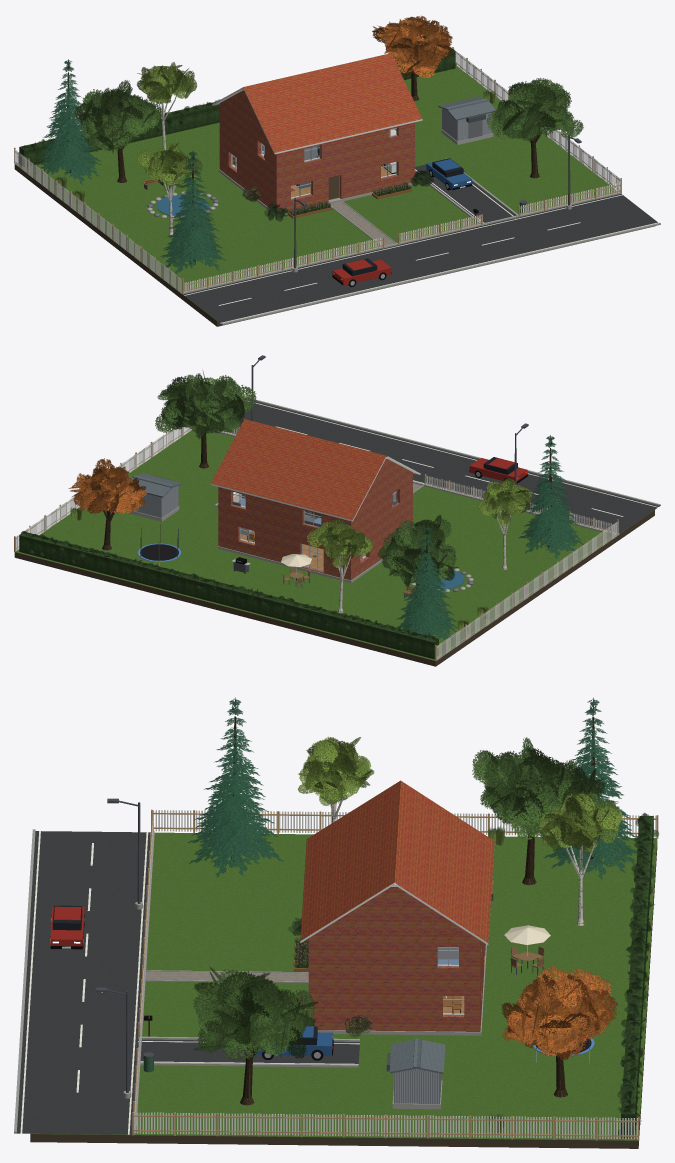
File: structure_studio.glb
3 views of the same model, one above another, from view 1: azimuth 30°, elevation 25°; view 2: azimuth 150°, elevation 25°; view 3: azimuth 270°, elevation 25° (orthographic). The views are drawn at different scales.
Visible parts, largest first — view 1: Site-fin_grass, Road-fin_asphalt, House · Roof-fin_clay_tiles, Deciduous tree-leaf_oak, Fence-fascia, Conifer (fir)-leaf_needle, House · Ground floor-fin_brick_red, House · 1st floor-fin_brick_red, Birch tree-leaf_birch, Autumn maple-leaf_maple, Road-concrete, Fence-wood_light (+17 smaller); view 2: Site-fin_grass, House · Roof-fin_clay_tiles, Road-fin_asphalt, Hedge-fin_hedge_leaf, Deciduous tree-leaf_oak, Conifer (fir)-leaf_needle, Fence-fascia, House · Ground floor-fin_brick_red, House · 1st floor-fin_brick_red, Site-earth, Birch tree-leaf_birch, Autumn maple-leaf_maple (+12 smaller); view 3: Site-fin_grass, Road-fin_asphalt, House · Roof-fin_clay_tiles, Deciduous tree-leaf_oak, Conifer (fir)-leaf_needle, Fence-fascia, House · 1st floor-fin_brick_red, House · Ground floor-fin_brick_red, Autumn maple-leaf_maple, Birch tree-leaf_birch, Site-earth, Hedge-fin_hedge_leaf (+15 smaller).
Boxes of the visible parts, x1=… form: Site-fin_grass: x1=15, y1=65, x2=615, y2=319; Road-fin_asphalt: x1=183, y1=164, x2=657, y2=323; House · Roof-fin_clay_tiles: x1=242, y1=53, x2=422, y2=152; Deciduous tree-leaf_oak: x1=74, y1=78, x2=583, y2=152; Fence-fascia: x1=14, y1=48, x2=620, y2=293; Conifer (fir)-leaf_needle: x1=36, y1=59, x2=226, y2=273; House · Ground floor-fin_brick_red: x1=219, y1=136, x2=414, y2=211; House · 1st floor-fin_brick_red: x1=219, y1=103, x2=414, y2=179; Birch tree-leaf_birch: x1=136, y1=62, x2=202, y2=189; Autumn maple-leaf_maple: x1=372, y1=15, x2=452, y2=78; Road-concrete: x1=183, y1=158, x2=660, y2=325; Fence-wood_light: x1=14, y1=47, x2=621, y2=294; Site-fin_grass: x1=15, y1=430, x2=652, y2=660; House · Roof-fin_clay_tiles: x1=211, y1=419, x2=387, y2=519; Road-fin_asphalt: x1=216, y1=399, x2=659, y2=533; Hedge-fin_hedge_leaf: x1=19, y1=532, x2=438, y2=659; Deciduous tree-leaf_oak: x1=155, y1=370, x2=458, y2=586; Conifer (fir)-leaf_needle: x1=396, y1=435, x2=583, y2=641; Fence-fascia: x1=15, y1=426, x2=618, y2=660; House · Ground floor-fin_brick_red: x1=218, y1=504, x2=412, y2=580; House · 1st floor-fin_brick_red: x1=218, y1=471, x2=412, y2=536; Site-earth: x1=14, y1=510, x2=654, y2=666; Birch tree-leaf_birch: x1=307, y1=477, x2=531, y2=568; Autumn maple-leaf_maple: x1=68, y1=458, x2=147, y2=514; Site-fin_grass: x1=30, y1=832, x2=657, y2=1140; Road-fin_asphalt: x1=17, y1=831, x2=359, y2=1134; House · Roof-fin_clay_tiles: x1=300, y1=780, x2=494, y2=942; Deciduous tree-leaf_oak: x1=193, y1=737, x2=605, y2=1060; Conifer (fir)-leaf_needle: x1=187, y1=697, x2=637, y2=879; Fence-fascia: x1=134, y1=810, x2=656, y2=1139; House · 1st floor-fin_brick_red: x1=308, y1=933, x2=482, y2=983; House · Ground floor-fin_brick_red: x1=308, y1=942, x2=485, y2=1031; Autumn maple-leaf_maple: x1=500, y1=966, x2=617, y2=1060; Birch tree-leaf_birch: x1=297, y1=736, x2=622, y2=853; Site-earth: x1=30, y1=842, x2=657, y2=1148; Hedge-fin_hedge_leaf: x1=621, y1=816, x2=653, y2=1138.
Size of the model in its own units: 40.95 by 10.54 by 36.15.
Materials: 91 (24 with a texture image).
